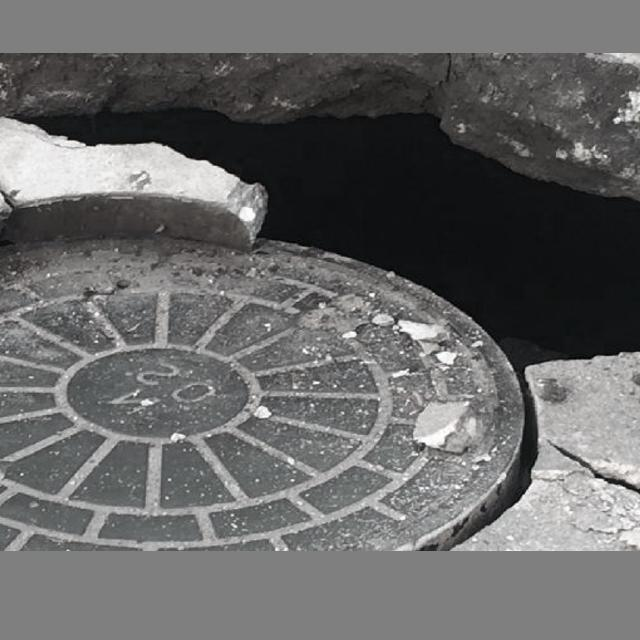circle: (0, 72, 628, 545)
